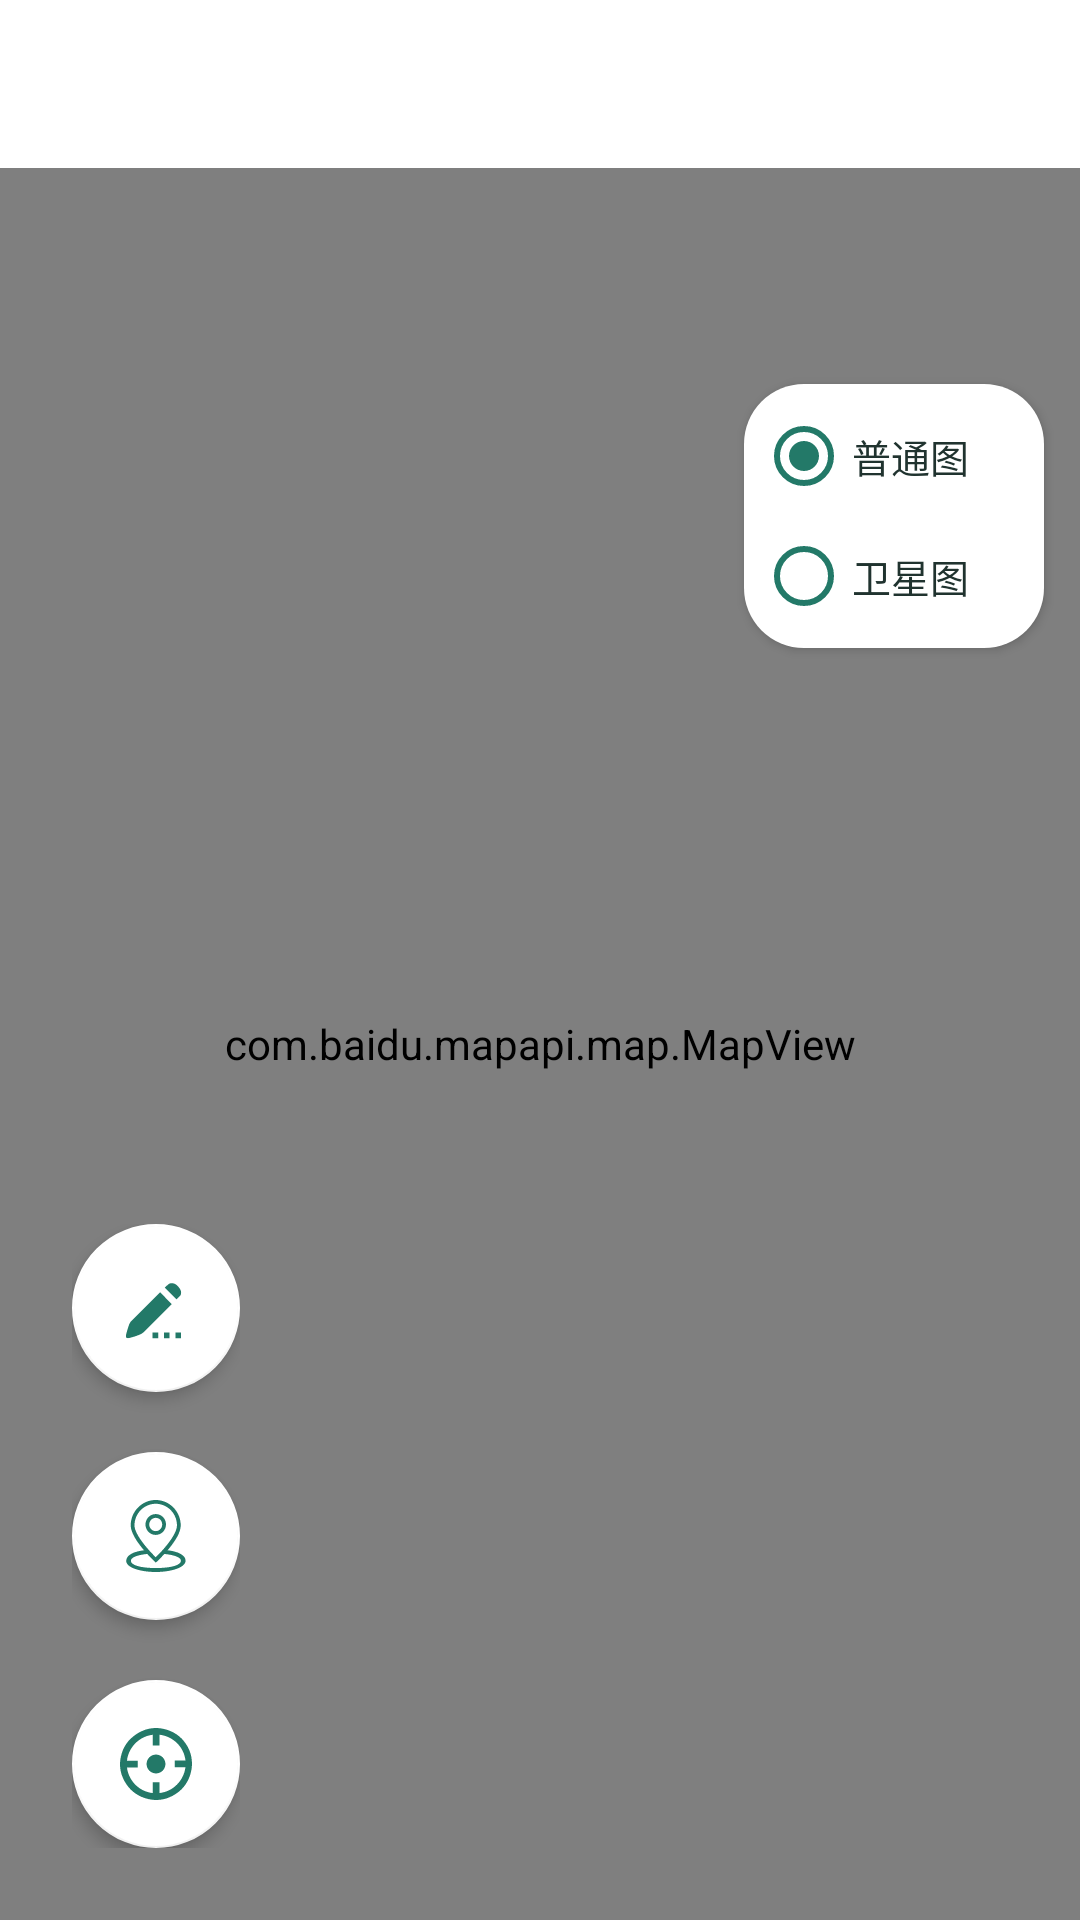

Where to tap for icons on this 1080x1920 app screen, as [x,y]:
回到当前位置: [156,1764]
开始或停止模拟定位: [156,1536]
输入坐标: [156,1308]
